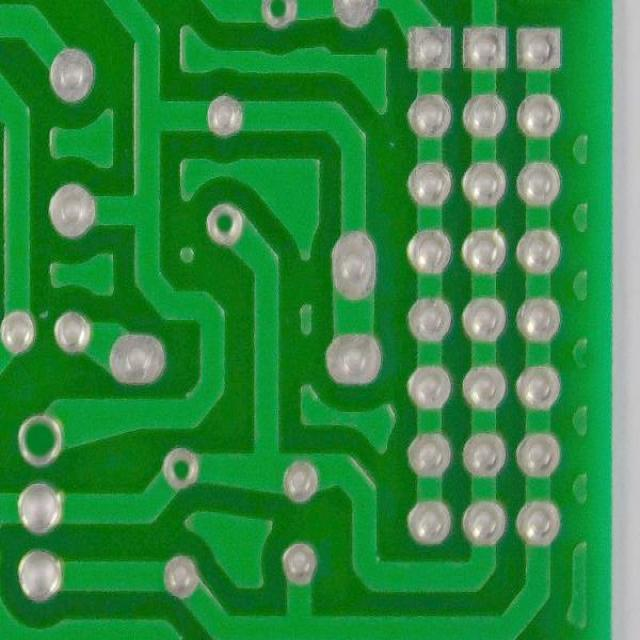missing hole: (13, 412, 66, 471), (202, 201, 250, 251), (161, 443, 203, 493), (257, 1, 301, 34)
